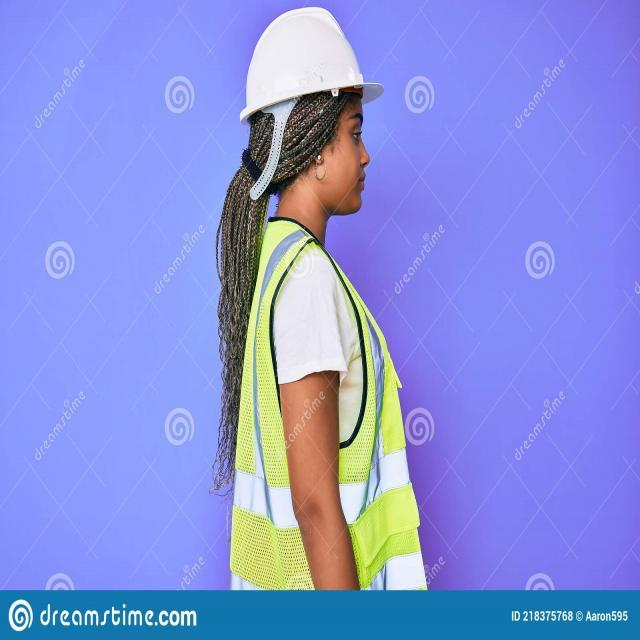reflective_jacket: (222, 224, 422, 585)
safety_helmet: (237, 2, 382, 127)
